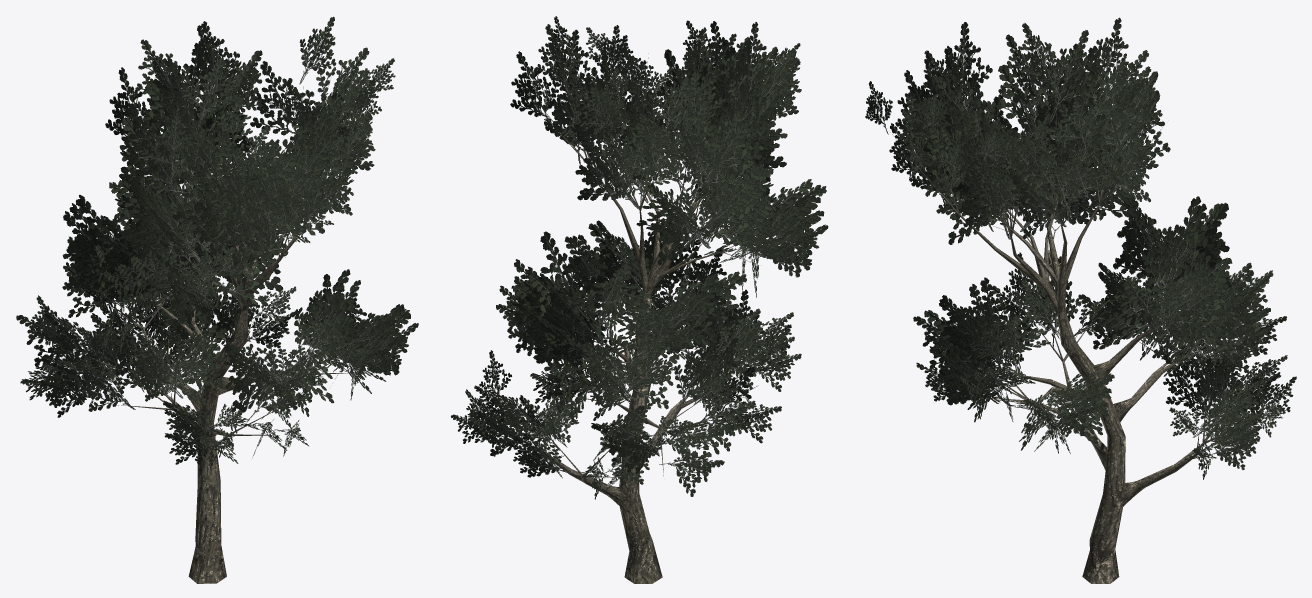
The model's file is SM_EC_Tree_Oak_01.fbx.
The picture shows the model from 3 angles, left to right: view 1: azimuth 30°, elevation 25°; view 2: azimuth 150°, elevation 25°; view 3: azimuth 270°, elevation 25°; orthographic projection. The views are drawn at different scales.
Parts seen in each view (by area): view 1: SM_EC_Tree_Oak_01; view 2: SM_EC_Tree_Oak_01; view 3: SM_EC_Tree_Oak_01.
Part boxes in pixels (x1,y1,x2,y2): SM_EC_Tree_Oak_01: (16,16,418,583); SM_EC_Tree_Oak_01: (451,16,828,583); SM_EC_Tree_Oak_01: (865,17,1296,583).
Bounding box in the file's own units: 5.17 × 5.94 × 8.14.
